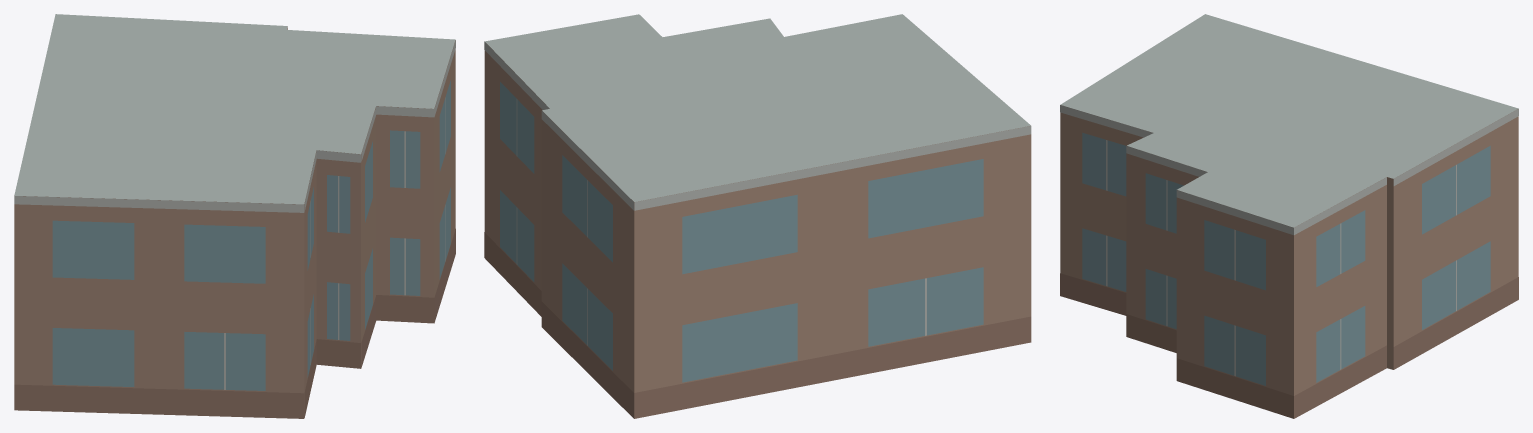
Rendered from survey-upis-32967719.glb.
3 views of the same model, side by side, from view 1: azimuth 30°, elevation 25°; view 2: azimuth 150°, elevation 25°; view 3: azimuth 270°, elevation 25° (orthographic). The views are drawn at different scales.
Visible parts, largest first — view 1: survey-upis-32967719.tmp; view 2: survey-upis-32967719.tmp; view 3: survey-upis-32967719.tmp.
Part boxes in pixels (left/top/right/bottom): survey-upis-32967719.tmp: left=14, top=14, right=455, bottom=418; survey-upis-32967719.tmp: left=484, top=14, right=1031, bottom=418; survey-upis-32967719.tmp: left=1060, top=14, right=1518, bottom=418.
Bounding box in the file's own units: 14.63 × 6.1 × 13.27.
